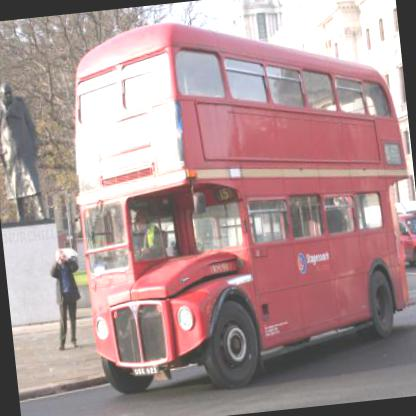bus: (56, 0, 415, 403)
